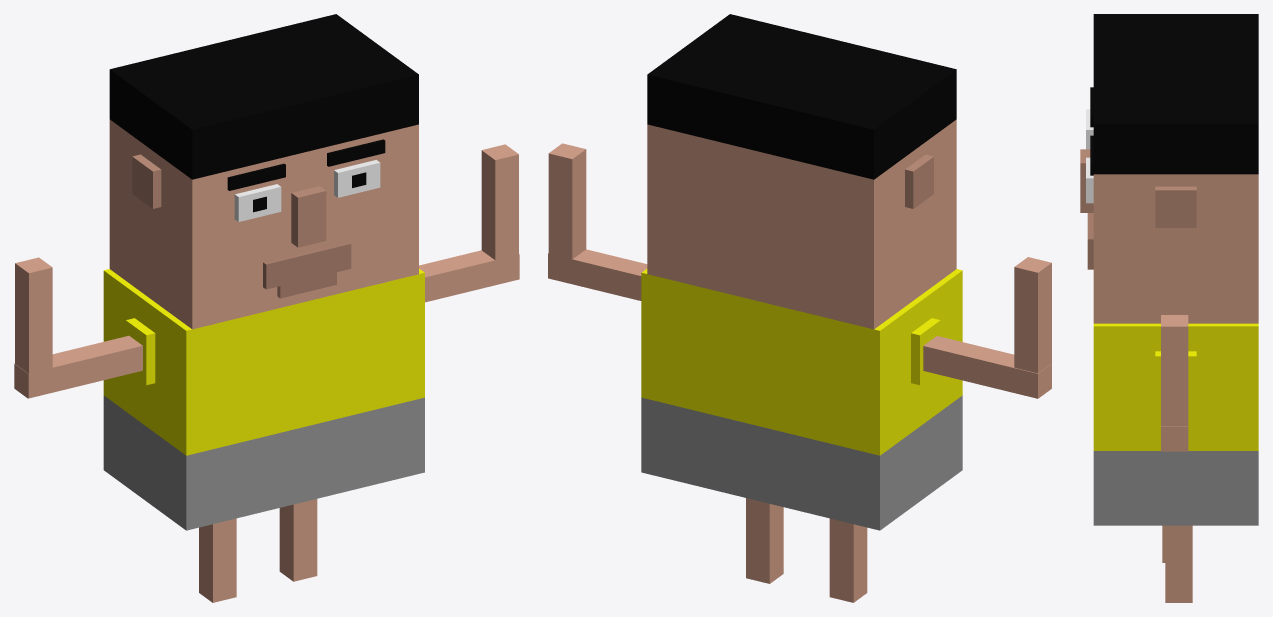
File: GoodPerson.fbx
3 renders of one model, left to right at view 1: azimuth 30°, elevation 25°; view 2: azimuth 150°, elevation 25°; view 3: azimuth 270°, elevation 25°, orthographic.
Parts seen in each view (by area): view 1: Face, Body, Hand2_2, Hand1_1, Hand2, Leg2, Leg1, Hand1; view 2: Face, Body, Hand2, Hand1_1, Hand2_2, Hand1, Leg1, Leg2; view 3: Face, Body, Hand1_1, Leg2, Hand1.
Part boxes in pixels (x1,y1,x2,y2): Face: (109,14,418,329); Body: (103,268,424,530); Hand2_2: (15,257,52,397); Hand1_1: (481,144,518,284); Hand2: (14,335,142,398); Leg2: (279,499,317,581); Leg1: (199,518,236,602); Hand1: (419,250,519,302); Face: (647,14,956,329); Body: (641,269,962,530); Hand2: (923,336,1051,398); Hand1_1: (548,143,586,259); Hand2_2: (1014,257,1051,373); Hand1: (548,249,647,300); Leg1: (829,518,867,602); Leg2: (746,498,783,583); Face: (1080,14,1258,323); Body: (1093,323,1258,525); Hand1_1: (1161,315,1188,426); Leg2: (1165,525,1192,602); Hand1: (1161,426,1188,451).
Bounding box in the file's own units: 2.06 × 2.05 × 0.6476.
